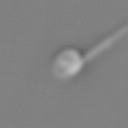normal: (86, 25, 128, 59)
